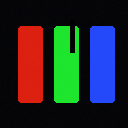4 line_v: (70, 20, 74, 52)
